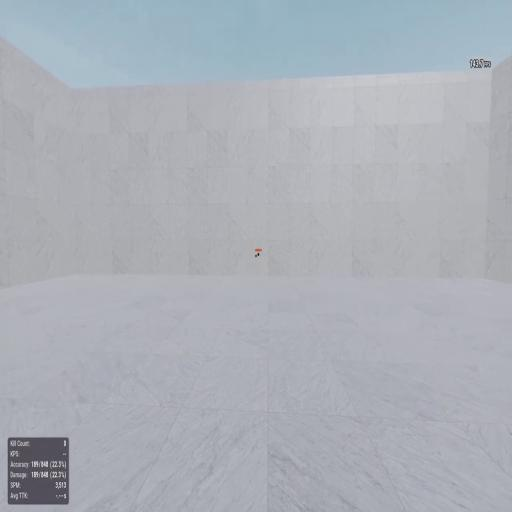Crosshair: (255, 254, 257, 258)
Target: (257, 252, 260, 257)
